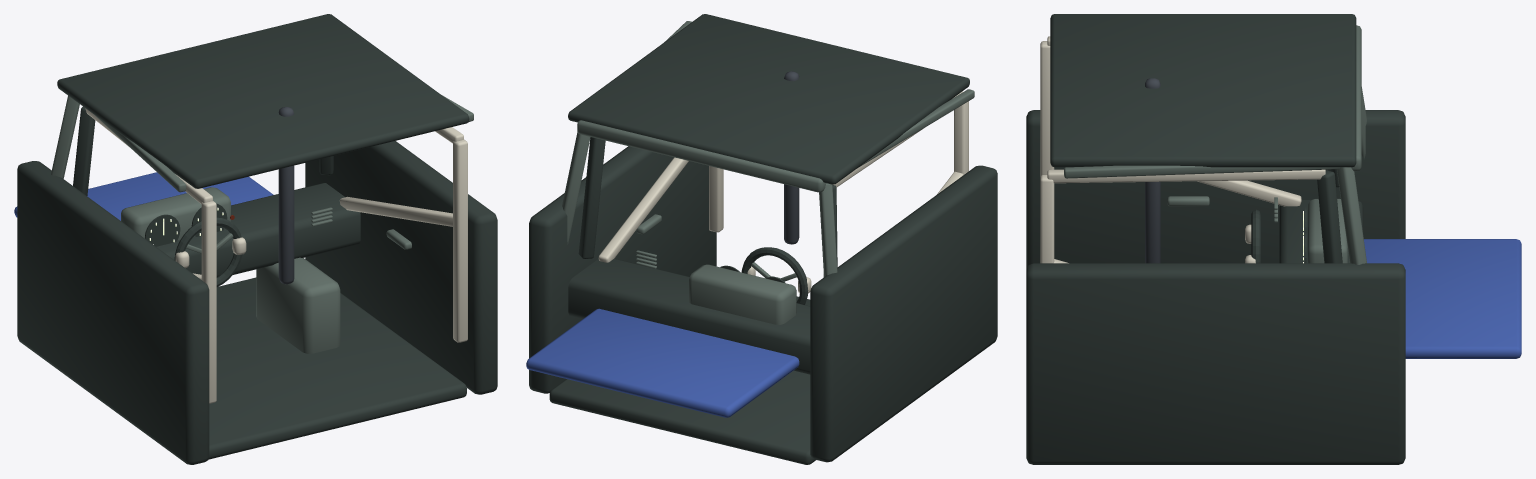
The model's file is rally-cockpit.glb.
The picture shows the model from 3 angles, left to right: view 1: azimuth 30°, elevation 25°; view 2: azimuth 150°, elevation 25°; view 3: azimuth 270°, elevation 25°; orthographic projection. The views are drawn at different scales.
Visible parts, largest first — view 1: rally_clay_charcoal.009, rally_clay_trim.009, rally_clay_cream.009, bonnet.002, arm_left_fore.002, wheel_rim.002; view 2: rally_clay_charcoal.009, bonnet.002, rally_clay_trim.009, rally_clay_cream.009, arm_left_fore.002, wheel_rim.002; view 3: rally_clay_charcoal.009, bonnet.002, rally_clay_trim.009, rally_clay_cream.009, arm_left_fore.002, wheel_rim.002.
Part boxes in pixels (bbox=[...]): rally_clay_charcoal.009: bbox=[17, 14, 497, 464]; rally_clay_trim.009: bbox=[51, 95, 473, 353]; rally_clay_cream.009: bbox=[85, 108, 467, 403]; bonnet.002: bbox=[14, 172, 273, 220]; arm_left_fore.002: bbox=[278, 107, 294, 284]; wheel_rim.002: bbox=[174, 217, 242, 286]; rally_clay_charcoal.009: bbox=[529, 14, 997, 464]; bonnet.002: bbox=[526, 308, 799, 417]; rally_clay_trim.009: bbox=[562, 21, 974, 324]; rally_clay_cream.009: bbox=[598, 91, 968, 262]; arm_left_fore.002: bbox=[784, 71, 799, 244]; wheel_rim.002: bbox=[741, 247, 808, 304]; rally_clay_charcoal.009: bbox=[1026, 14, 1405, 464]; bonnet.002: bbox=[1364, 239, 1521, 358]; rally_clay_trim.009: bbox=[1064, 25, 1366, 264]; rally_clay_cream.009: bbox=[1040, 36, 1325, 263]; arm_left_fore.002: bbox=[1145, 78, 1160, 263]; wheel_rim.002: bbox=[1251, 209, 1260, 263].
Size of the model in its own units: 1.86 by 1.64 by 2.35.
